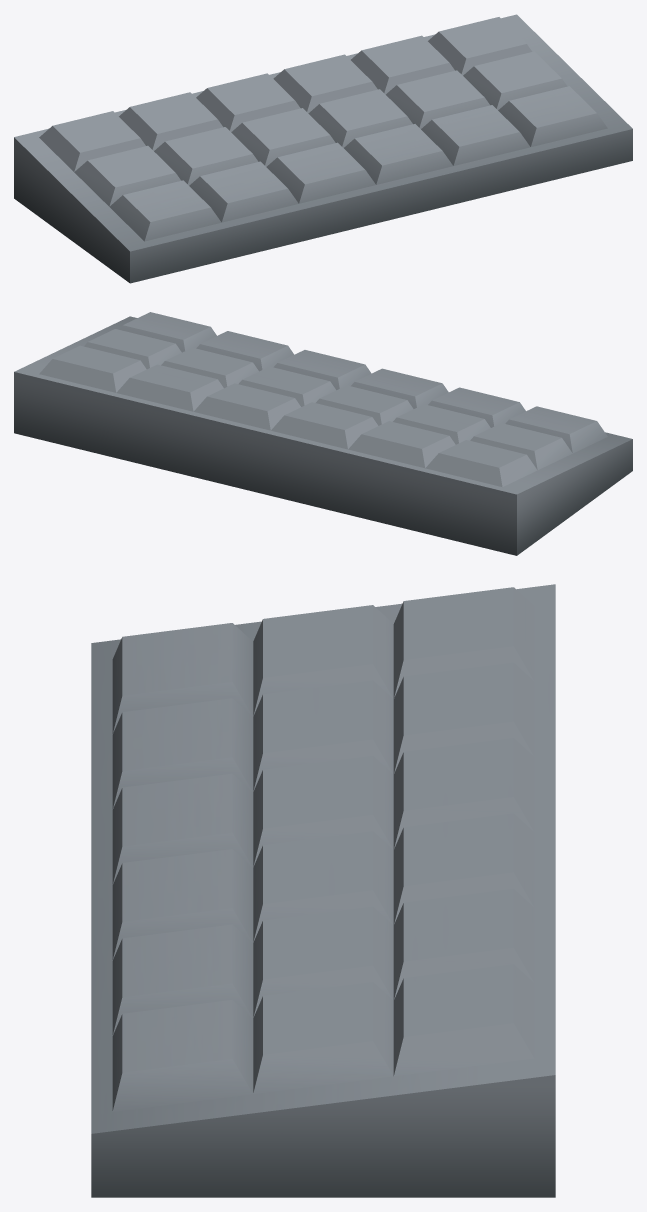
Rendered from Keyboard_01.fbx.
The picture shows the model from 3 angles, top to bottom: view 1: azimuth 30°, elevation 25°; view 2: azimuth 150°, elevation 25°; view 3: azimuth 270°, elevation 25°; orthographic projection. The views are drawn at different scales.
Parts seen in each view (by area): view 1: Box003; view 2: Box003; view 3: Box003.
Boxes of the visible parts, x1,y1,x2,y2 form: Box003: (14, 14, 632, 283); Box003: (14, 312, 632, 555); Box003: (91, 584, 555, 1197).
Size of the model in its own units: 66.63 by 9.32 by 26.65.
